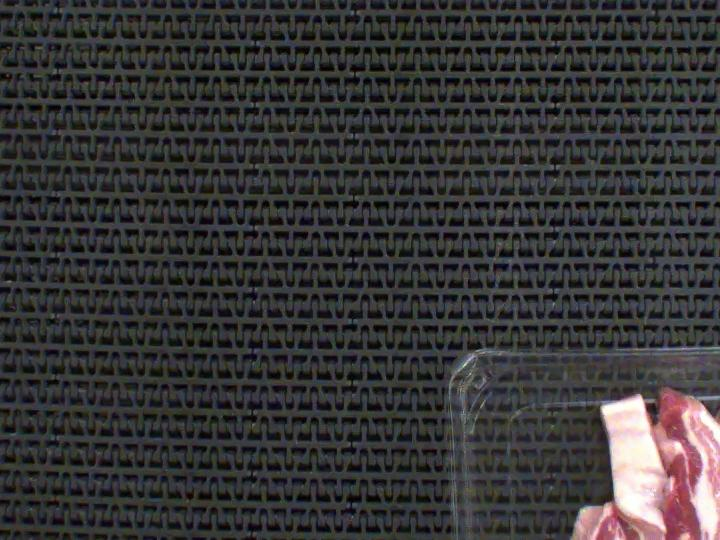twisted-meat: (572, 372, 696, 540)
